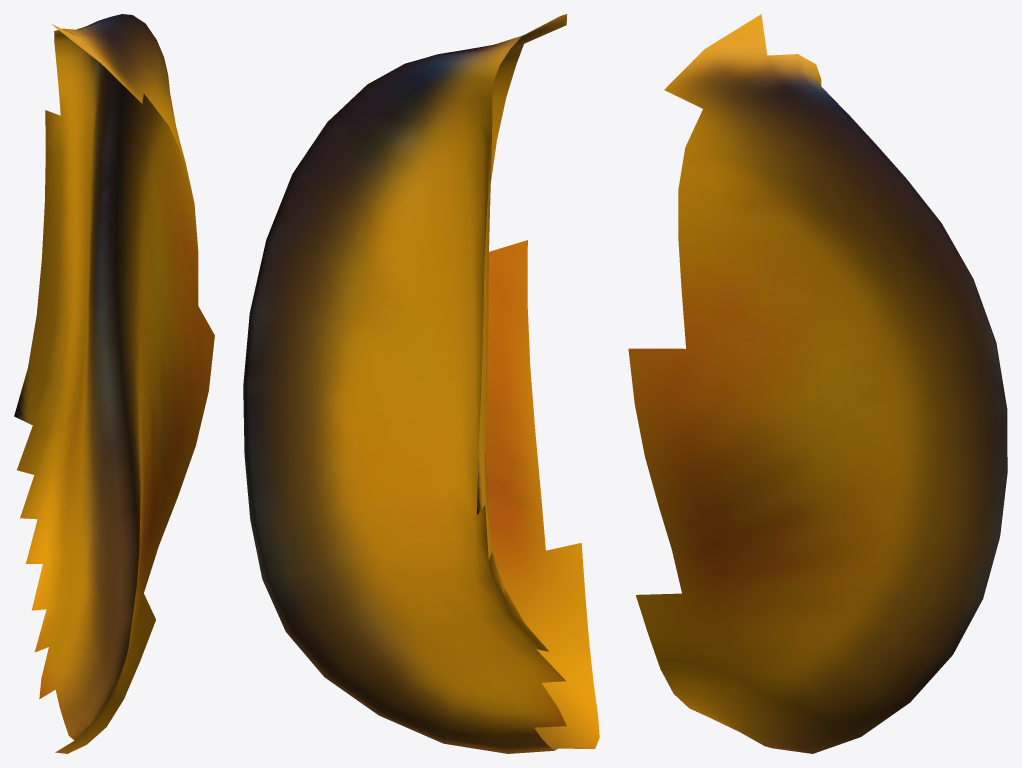
File: psFAI.obj
3 renders of one model, left to right at view 1: azimuth 30°, elevation 25°; view 2: azimuth 150°, elevation 25°; view 3: azimuth 270°, elevation 25°, orthographic. The views are drawn at different scales.
Visible parts, largest first — view 1: aletaDer; view 2: aletaDer; view 3: aletaDer.
Part boxes in pixels (<box>): aletaDer: <box>14,14,214,753</box>; aletaDer: <box>243,14,599,753</box>; aletaDer: <box>628,14,1007,753</box>.
Bounding box in the file's own units: 1.65 × 5.73 × 2.76.
1 material, 1 textured.
